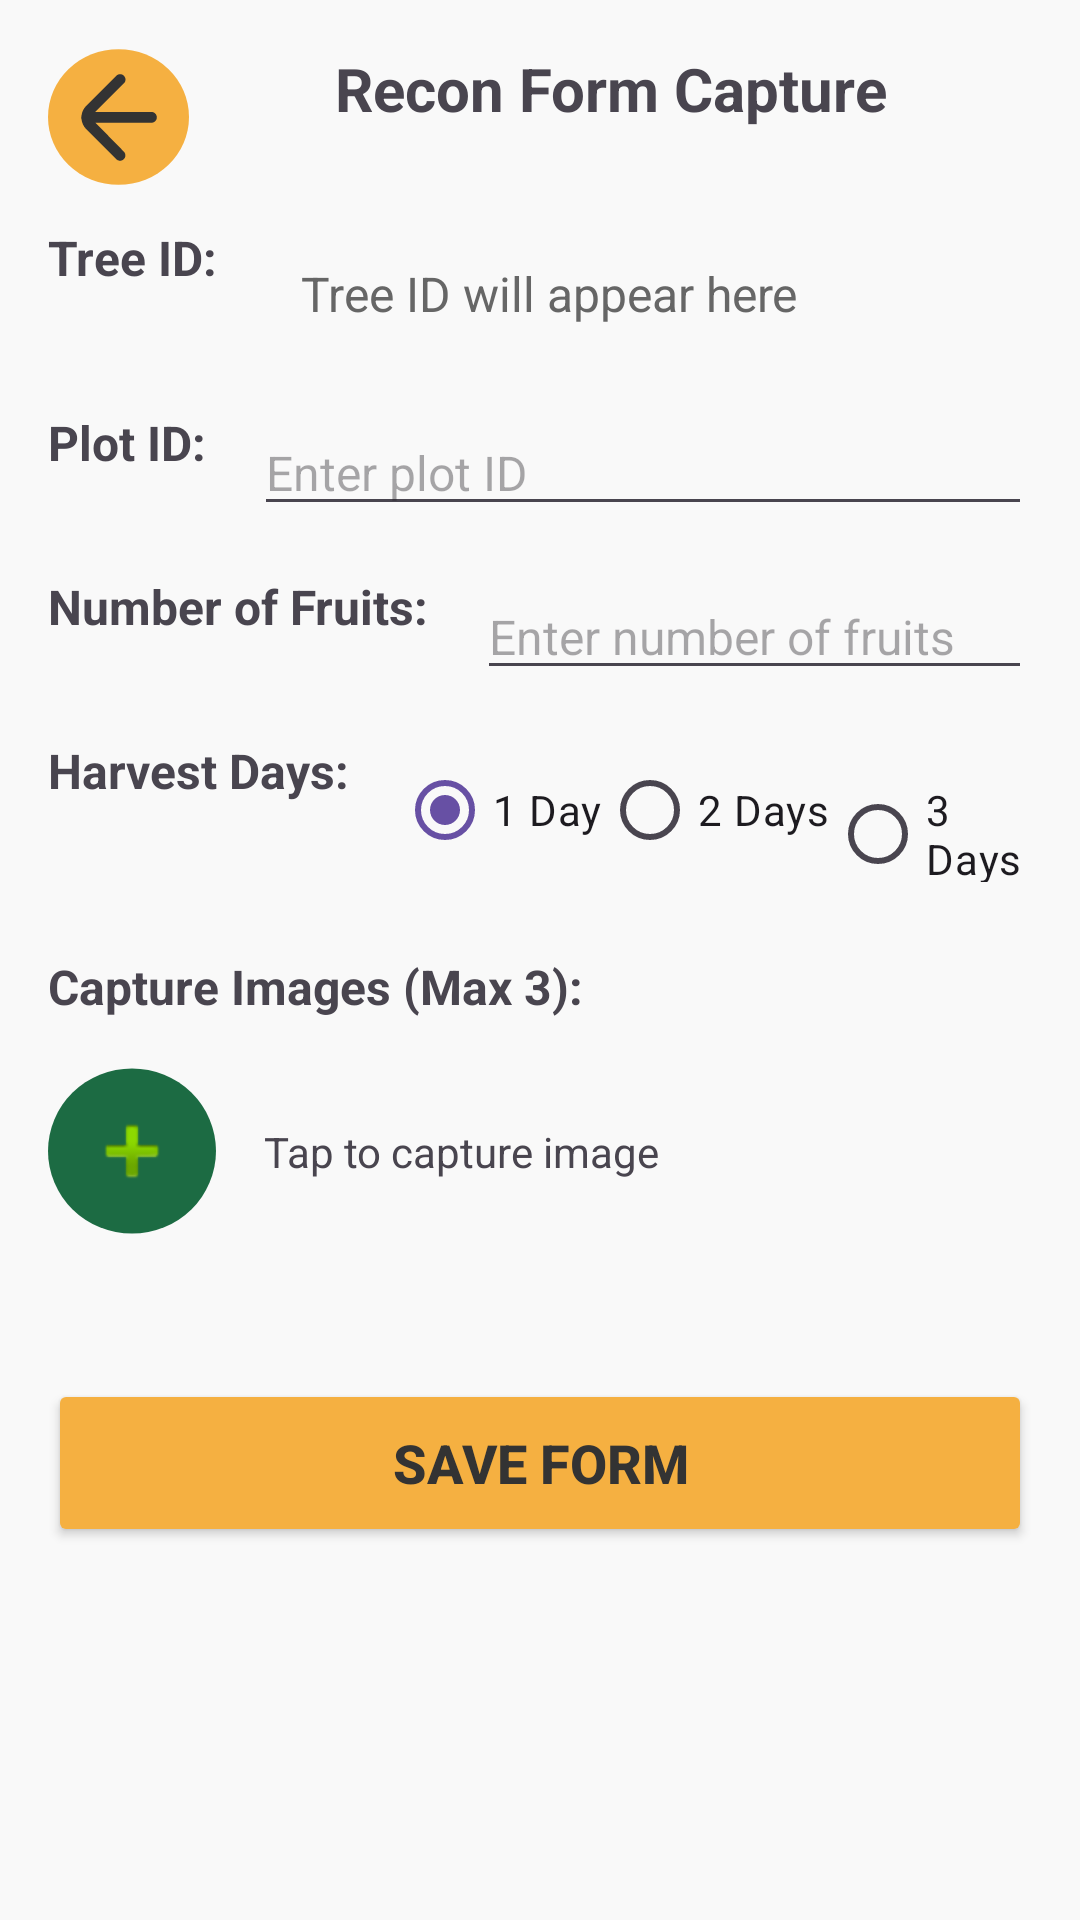

Icon click points for this 1080px×1920px phone screenshot, format (x=x, y=y):
add: (x=132, y=1151)
back arrow: (x=118, y=117)
